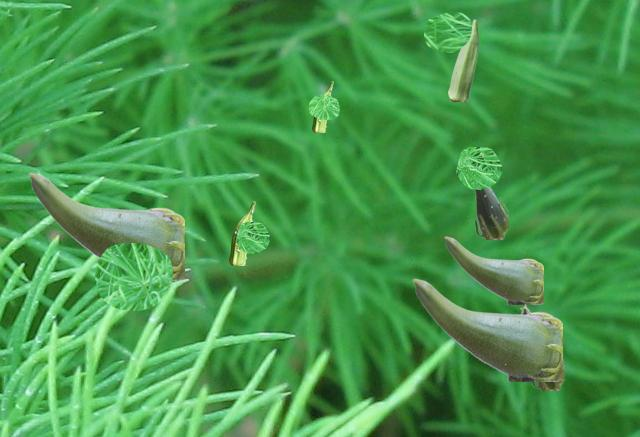okra: (28, 172, 183, 279), (412, 278, 561, 380), (444, 236, 542, 303), (519, 304, 563, 389), (448, 19, 477, 100), (474, 187, 507, 238), (229, 201, 254, 264), (312, 81, 332, 131)
